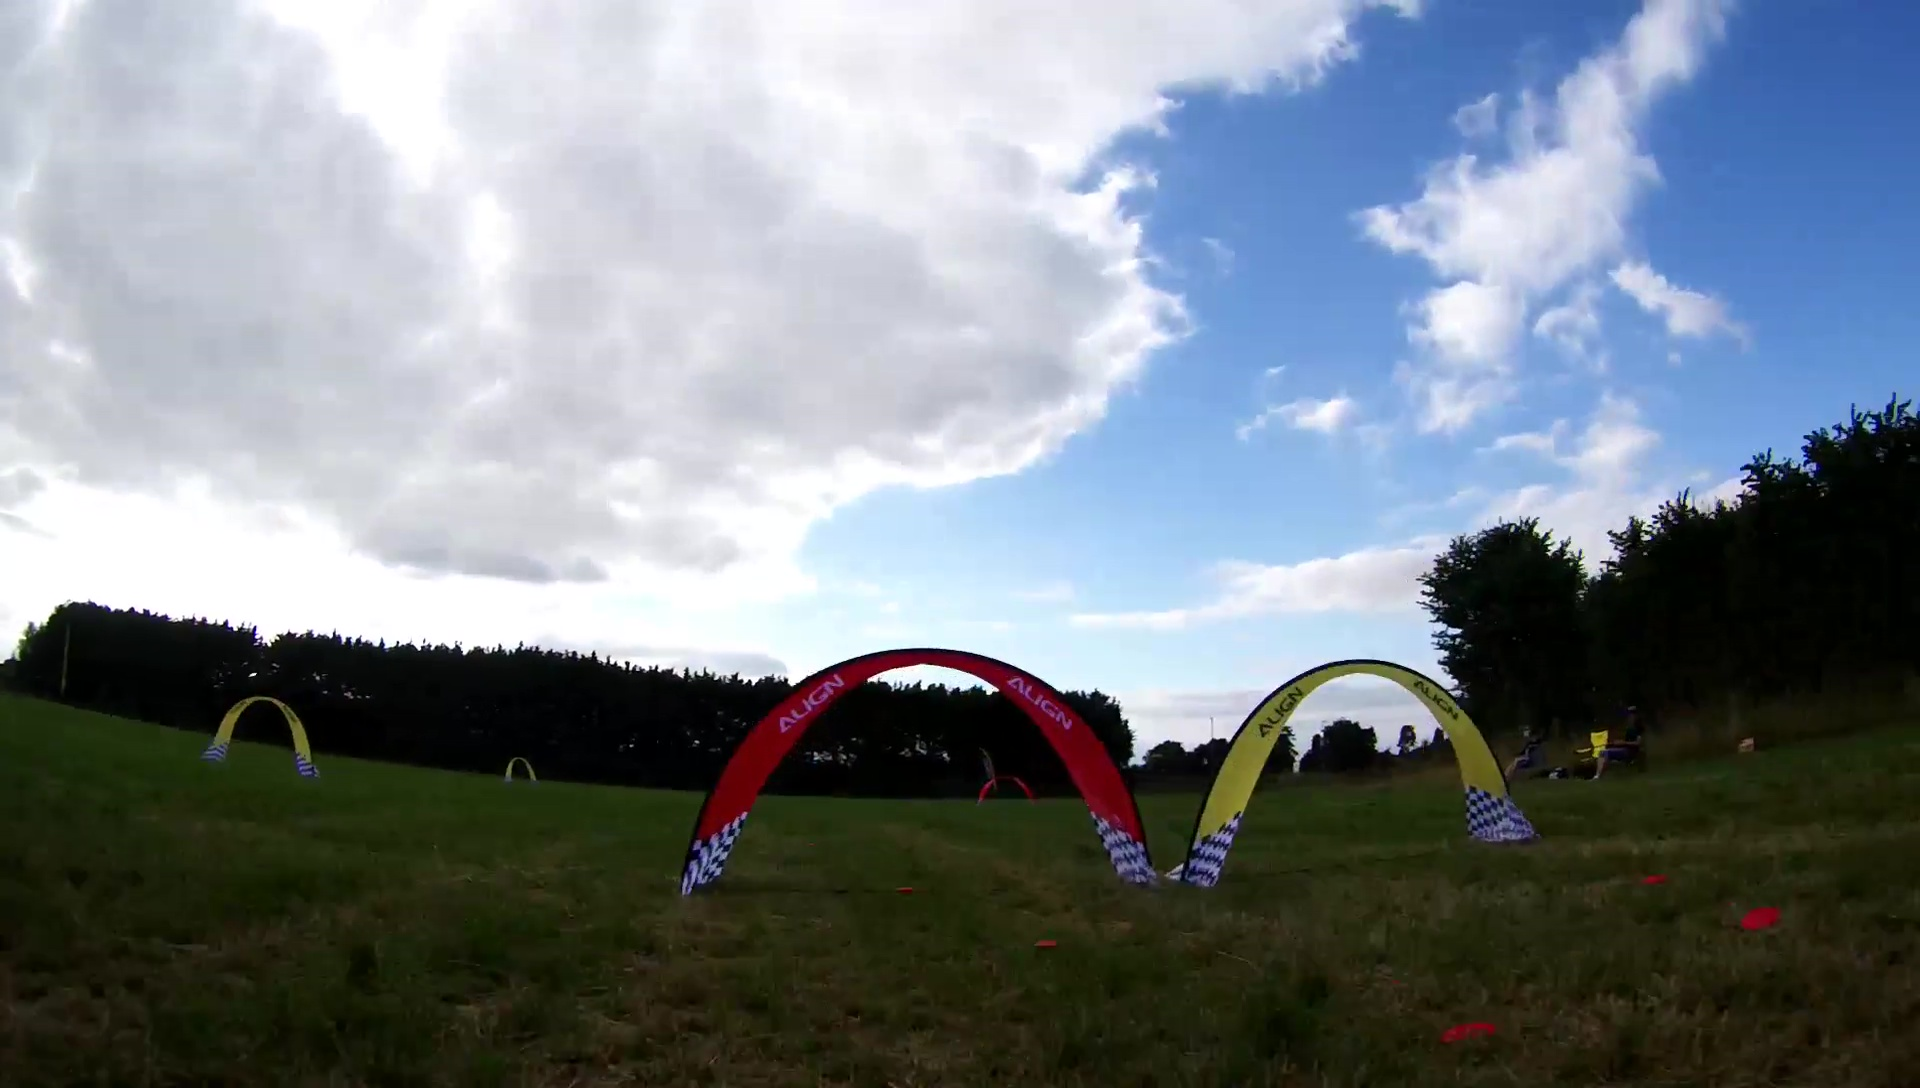gate: (675, 644, 1163, 899), (1166, 657, 1538, 892), (200, 696, 324, 781), (975, 771, 1039, 811), (501, 754, 541, 786)
